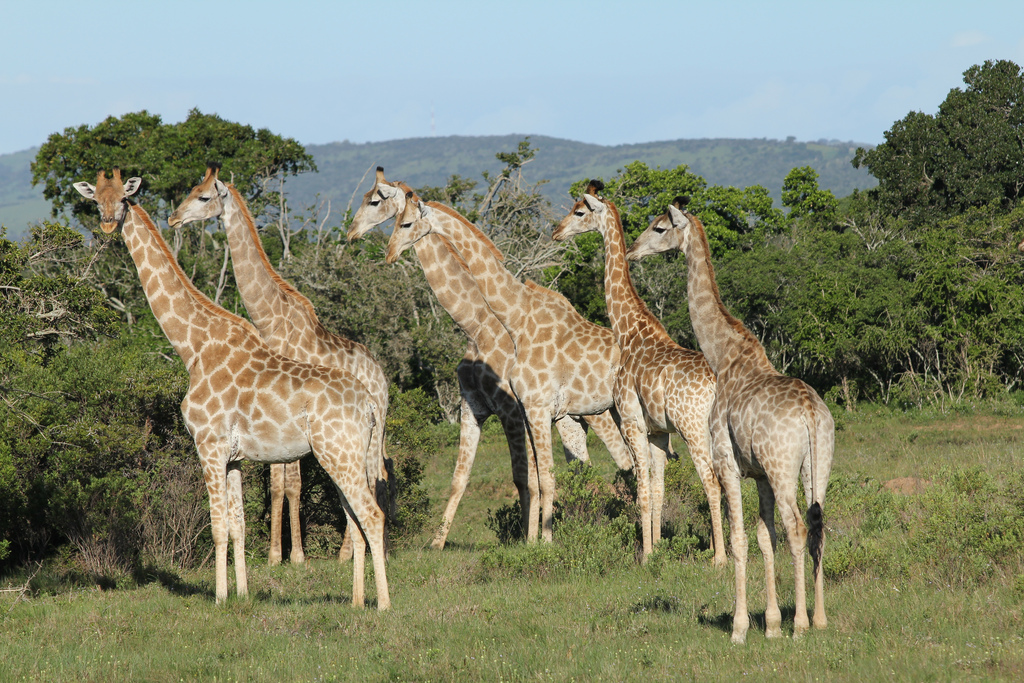giraffe: (53, 177, 396, 629), (642, 189, 888, 651), (549, 166, 717, 589), (400, 191, 615, 518), (171, 156, 394, 429), (341, 164, 434, 265)
